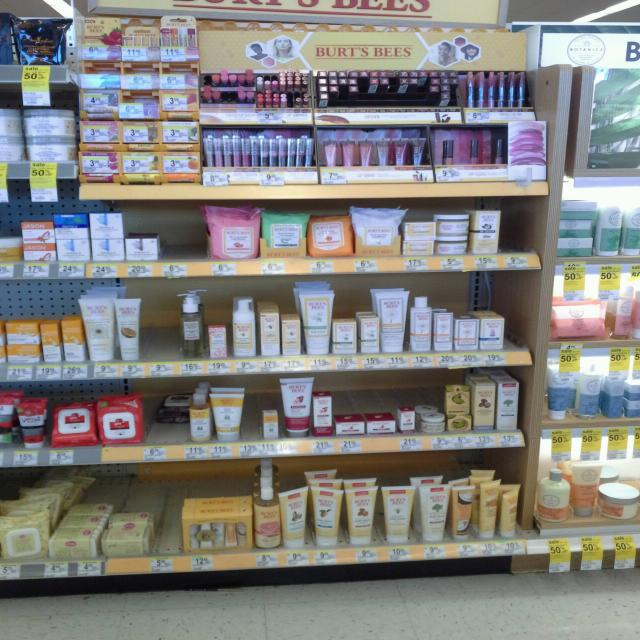empty: (133, 290, 185, 364), (149, 466, 182, 558), (155, 215, 212, 260), (504, 203, 537, 261)
